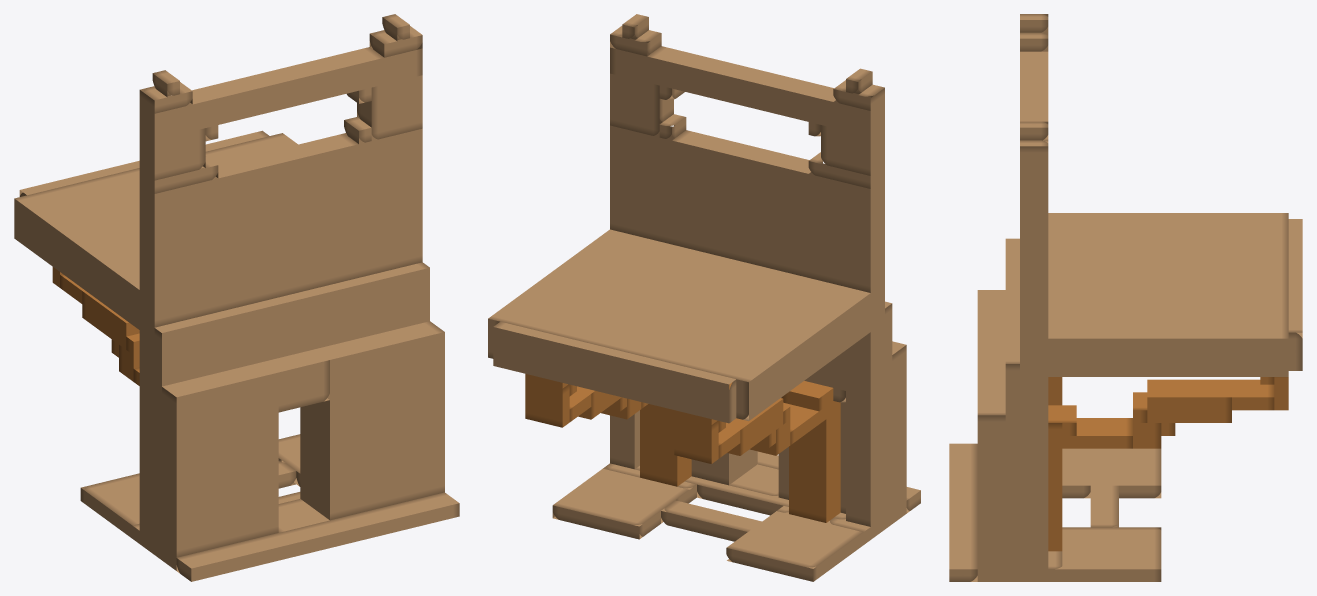
Rendered from KRZESEŁKO_BAR.dae.
3 renders of one model, left to right at view 1: azimuth 30°, elevation 25°; view 2: azimuth 150°, elevation 25°; view 3: azimuth 270°, elevation 25°, orthographic. The views are drawn at different scales.
Visible parts, largest first — view 1: Content; view 2: Content; view 3: Content.
Boxes of the visible parts, x1,y1,x2,y2 form: Content: [14, 14, 459, 581]; Content: [488, 14, 920, 581]; Content: [949, 14, 1302, 581].
Bounding box in the file's own units: 21 × 35 × 25.
Materials: 1 (1 with a texture image).
